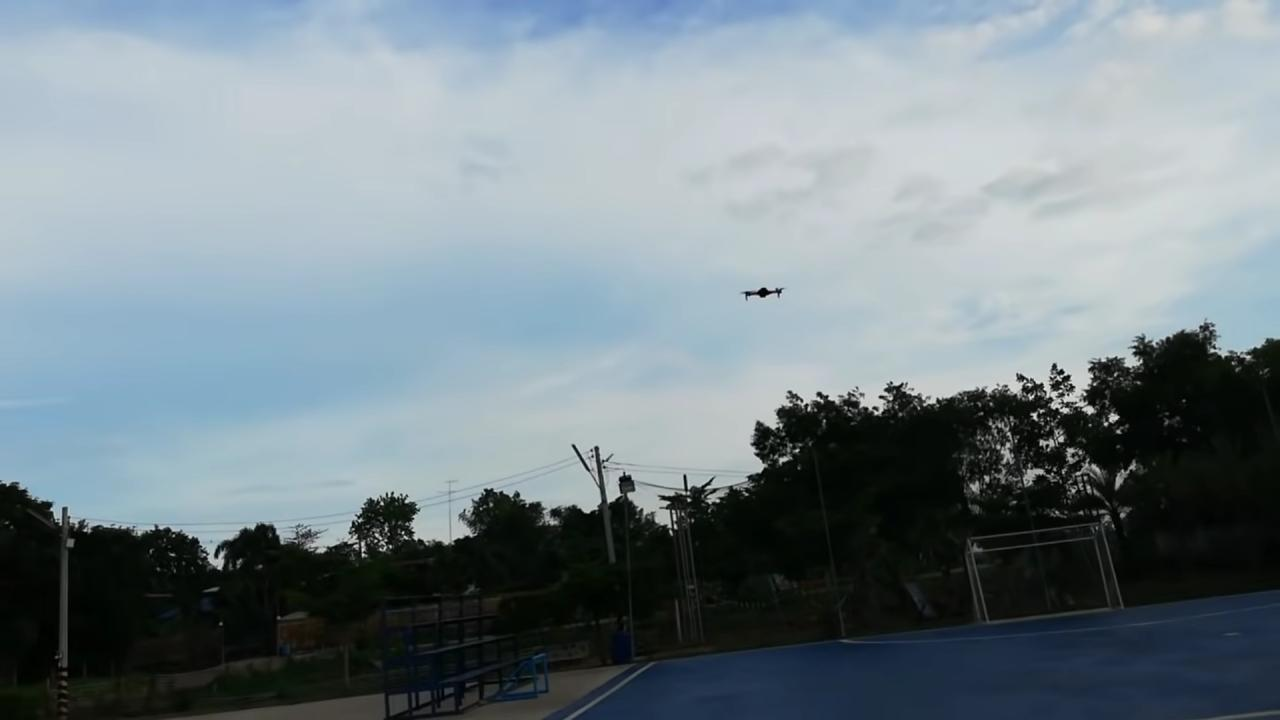Drone: (732, 278, 792, 310)
